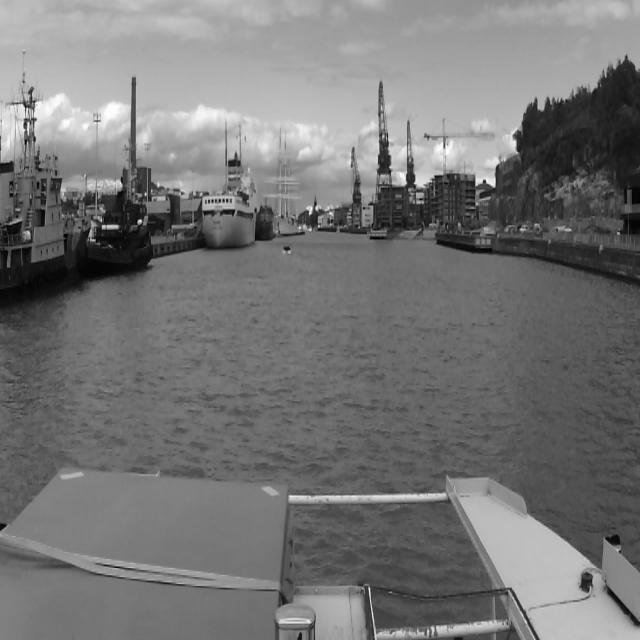ship: (5, 48, 90, 302), (203, 158, 254, 248), (92, 200, 152, 274), (276, 123, 304, 238), (257, 200, 275, 240), (283, 246, 291, 254)
